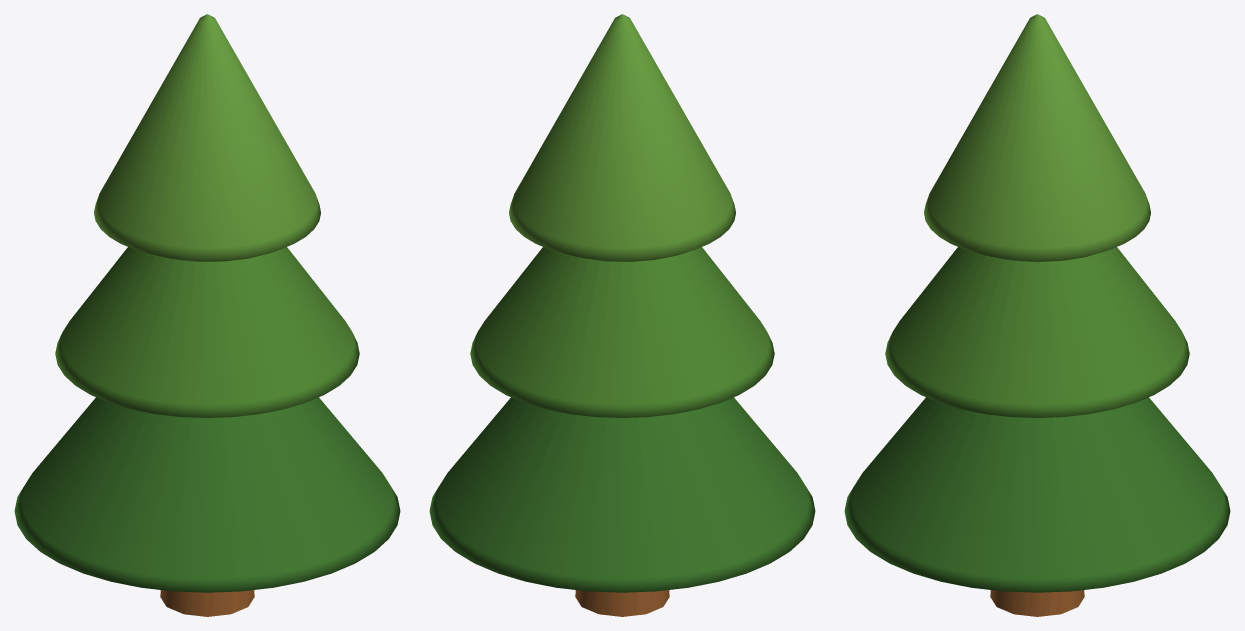
Rendered from tree-pine.fbx.
The picture shows the model from 3 angles, left to right: view 1: azimuth 30°, elevation 25°; view 2: azimuth 150°, elevation 25°; view 3: azimuth 270°, elevation 25°; orthographic projection.
Parts seen in each view (by area): view 1: tree-pine; view 2: tree-pine; view 3: tree-pine.
Part boxes in pixels (bbox=[...]): tree-pine: bbox=[14, 14, 400, 616]; tree-pine: bbox=[429, 14, 815, 616]; tree-pine: bbox=[844, 14, 1230, 616].
Size of the model in its own units: 1800 by 3000 by 1800.
Materials: 1 (1 with a texture image).
